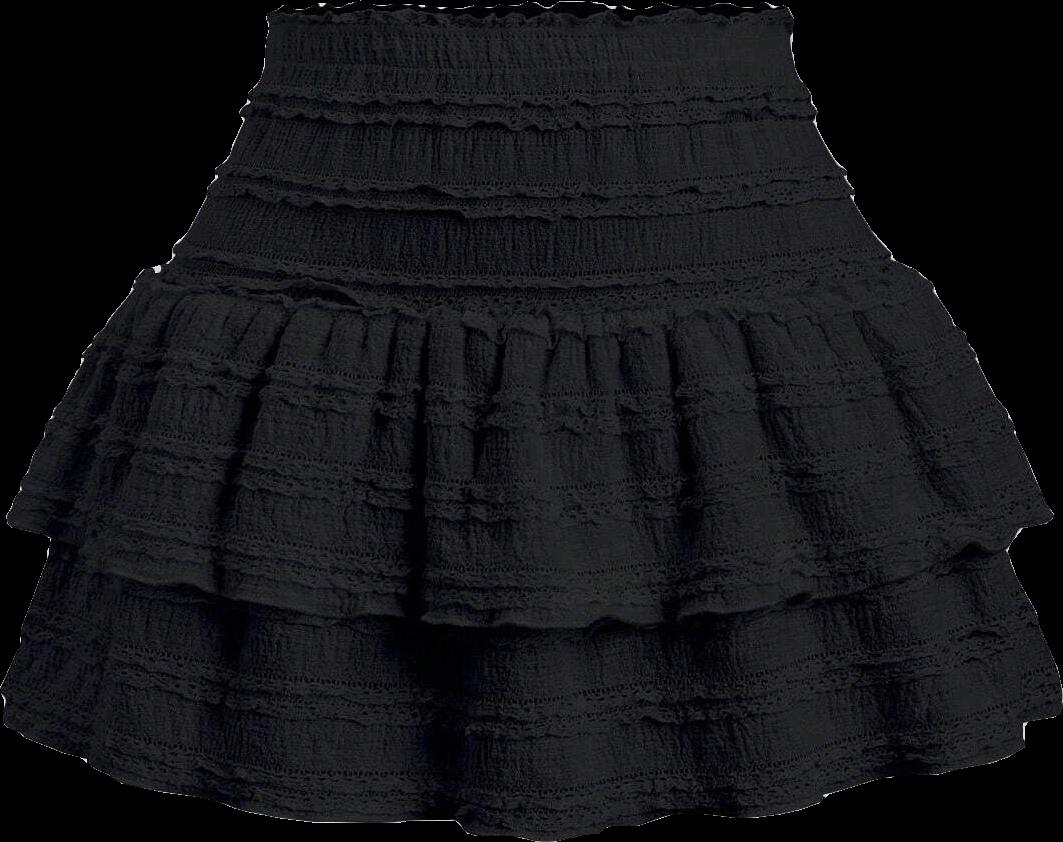Hemline: (0, 688, 1062, 841), (5, 509, 1055, 634)
Waistline: (167, 261, 902, 318), (268, 4, 790, 20)
